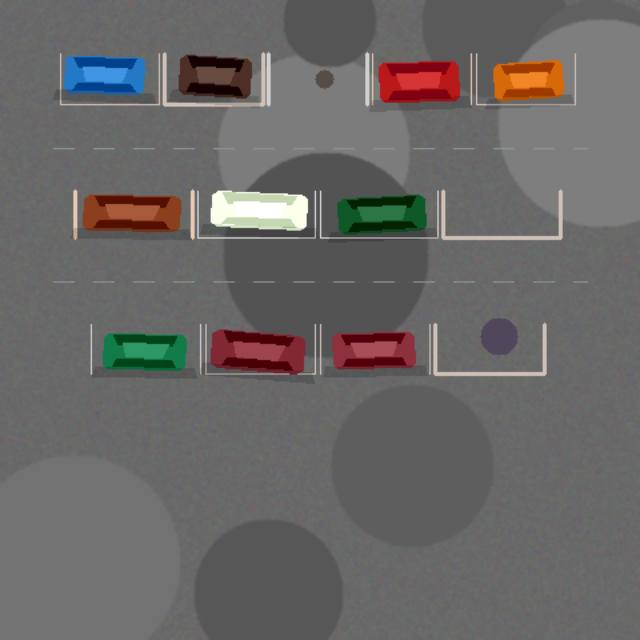space-empty: (443, 191, 560, 237), (435, 324, 544, 373), (268, 53, 367, 104)
space-occupied: (197, 191, 315, 237), (205, 324, 315, 373), (75, 191, 192, 237), (320, 191, 437, 237), (91, 324, 200, 373), (320, 324, 429, 373), (60, 53, 159, 104), (164, 53, 263, 104), (372, 53, 471, 104), (476, 53, 575, 104)
